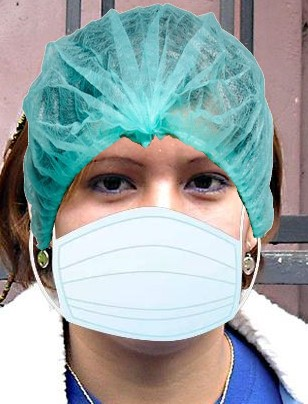with_mask_and_cap: (24, 2, 273, 354)
